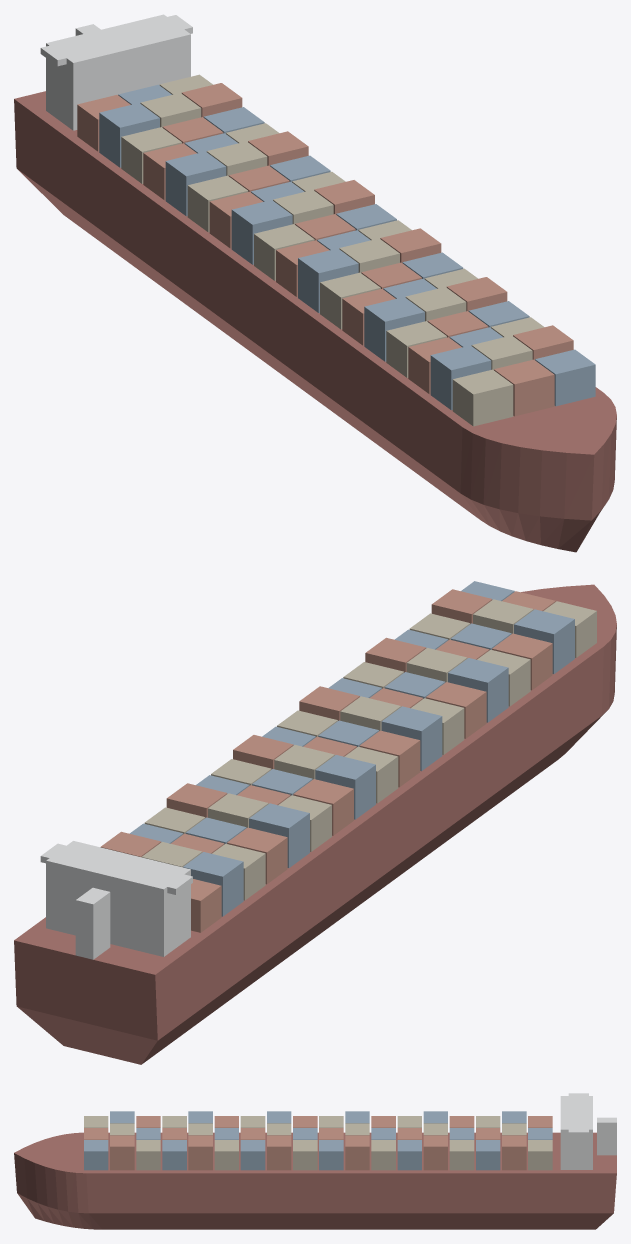
File: ship_cargo.glb
3 renders of one model, top to bottom at view 1: azimuth 30°, elevation 25°; view 2: azimuth 150°, elevation 25°; view 3: azimuth 270°, elevation 25°, orthographic. The views are drawn at different scales.
Visible parts, largest first — view 1: ship_cargo; view 2: ship_cargo; view 3: ship_cargo.
Part boxes in pixels (bbox=[...]): ship_cargo: bbox=[14, 14, 616, 552]; ship_cargo: bbox=[14, 581, 616, 1064]; ship_cargo: bbox=[14, 1093, 616, 1229].
Size of the model in its own units: 48 by 58 by 300.
